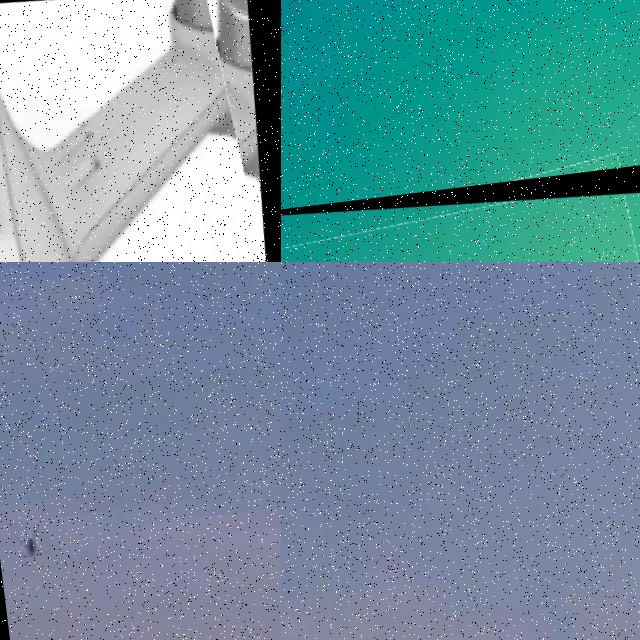drone: (0, 0, 281, 262), (281, 163, 640, 262)
